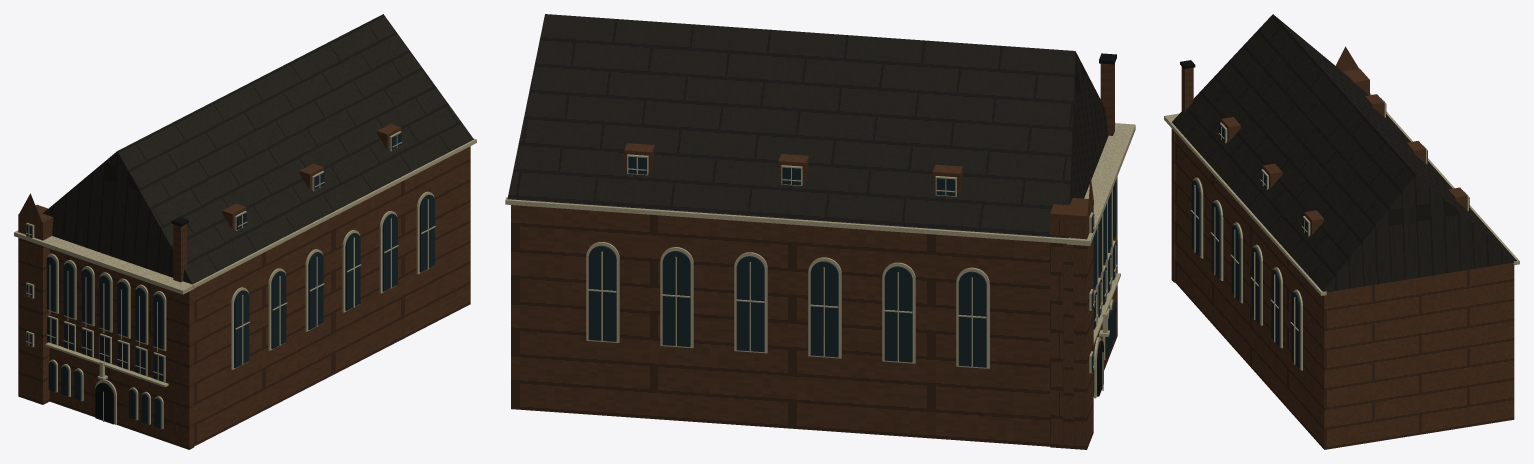
The picture shows the model from 3 angles, left to right: view 1: azimuth 30°, elevation 25°; view 2: azimuth 150°, elevation 25°; view 3: azimuth 270°, elevation 25°; orthographic projection. The views are drawn at different scales.
Visible parts, largest first — view 1: rosaliakerk-0, rosaliakerk-1, rosaliakerk-3, rosaliakerk-2, rosaliakerk-4; view 2: rosaliakerk-0, rosaliakerk-1, rosaliakerk-3, rosaliakerk-2; view 3: rosaliakerk-0, rosaliakerk-1, rosaliakerk-2, rosaliakerk-3.
Part boxes in pixels (box(x1,y1,x2,y2)): rosaliakerk-0: box(18, 124, 470, 449); rosaliakerk-1: box(43, 14, 473, 284); rosaliakerk-3: box(26, 133, 434, 428); rosaliakerk-2: box(14, 131, 476, 429); rosaliakerk-4: box(95, 217, 188, 424); rosaliakerk-0: box(511, 63, 1117, 449); rosaliakerk-1: box(507, 14, 1108, 238); rosaliakerk-3: box(588, 156, 1116, 392); rosaliakerk-2: box(505, 122, 1135, 398); rosaliakerk-0: box(1171, 46, 1514, 449); rosaliakerk-1: box(1172, 14, 1516, 292); rosaliakerk-2: box(1164, 93, 1519, 370); rosaliakerk-3: box(1191, 98, 1469, 368).
Bounding box in the file's own units: 41.82 × 24 × 30.16.
Materials: 5 (5 with a texture image).
